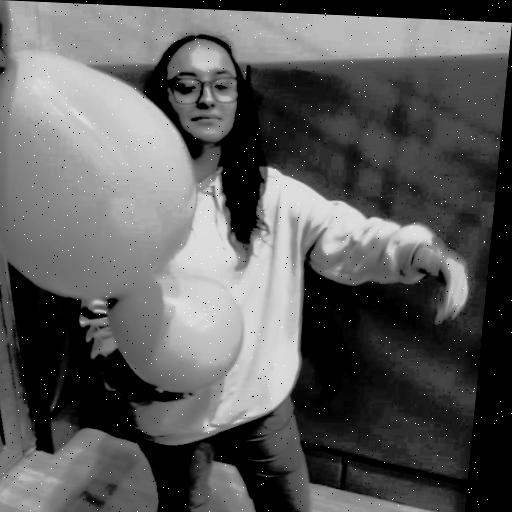balloon: (0, 44, 212, 306), (100, 266, 252, 396)
